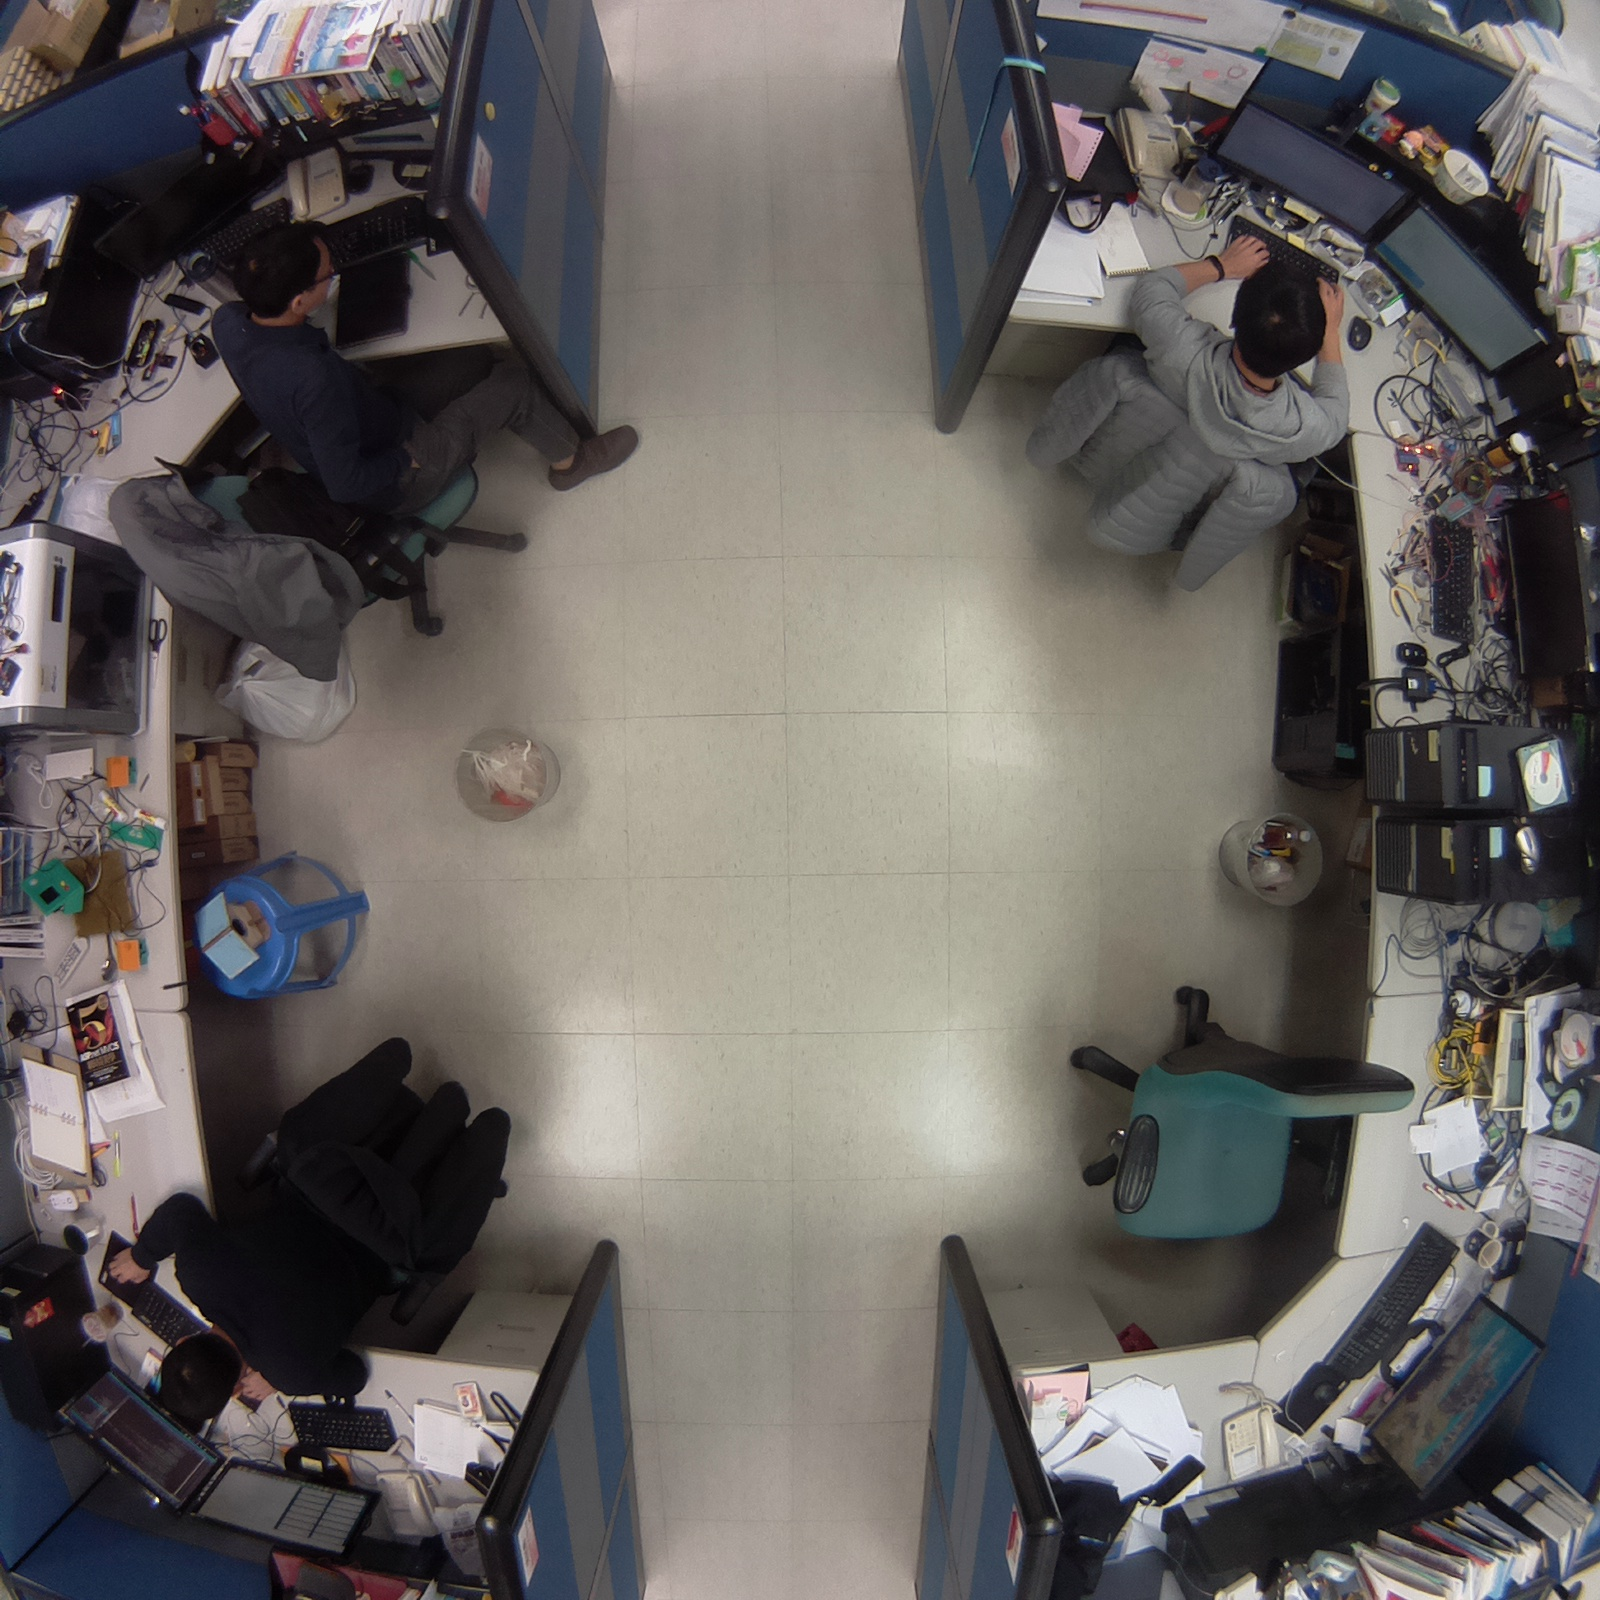chair: (1024, 960, 1432, 1263)
head: (227, 217, 351, 331), (1227, 253, 1334, 380), (157, 1321, 251, 1440)
sitting: (101, 212, 665, 691), (101, 1001, 529, 1446), (1012, 226, 1359, 617)
